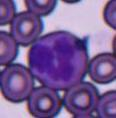E: (29, 30, 88, 90)
